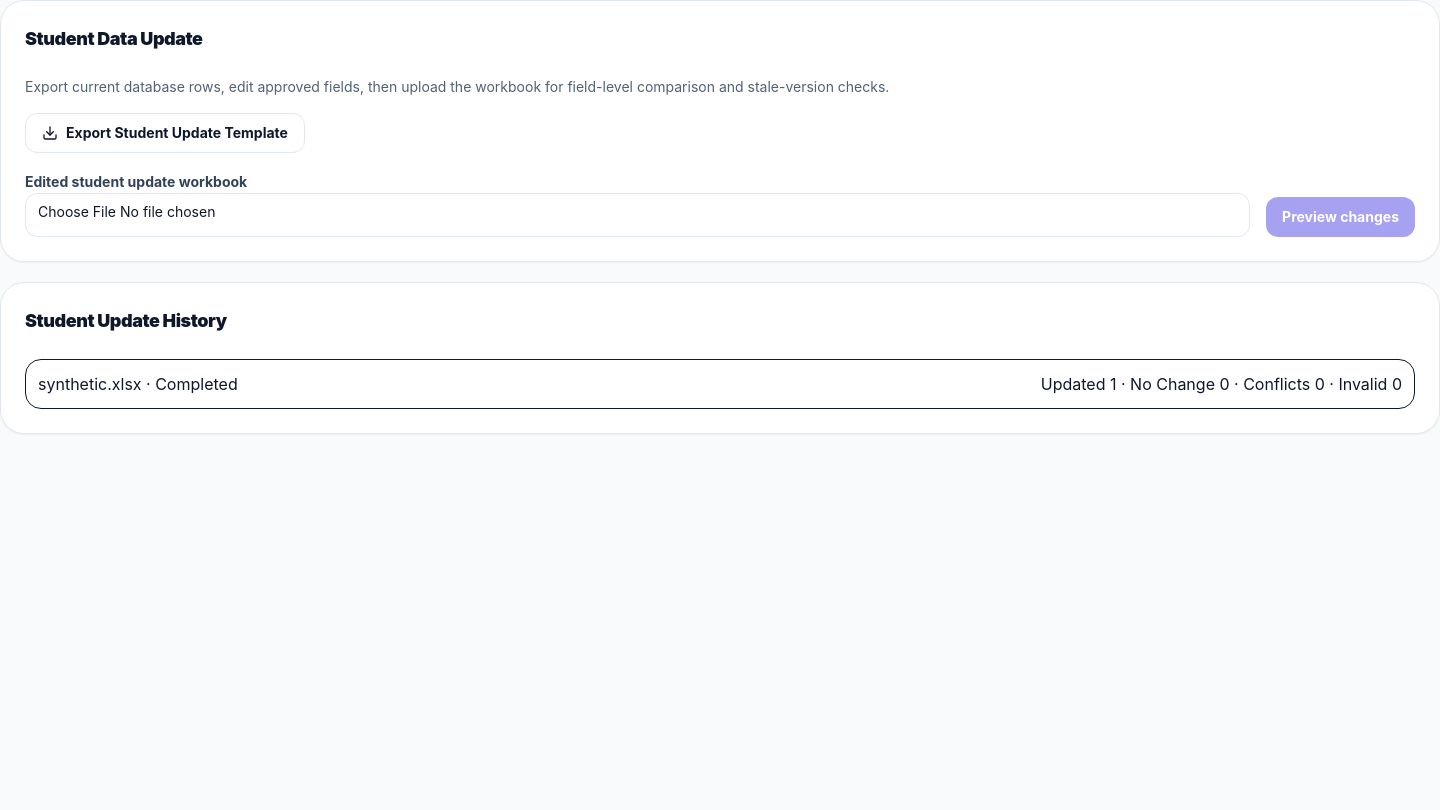
it: Student Update review › previews and applies rollback for recorded Student Update actions
The image size is (1440, 810).
Click the button with aria-label "Open Student Update history item synthetic.xlsx".
click(90, 384)  # box [25,359,1415,409]
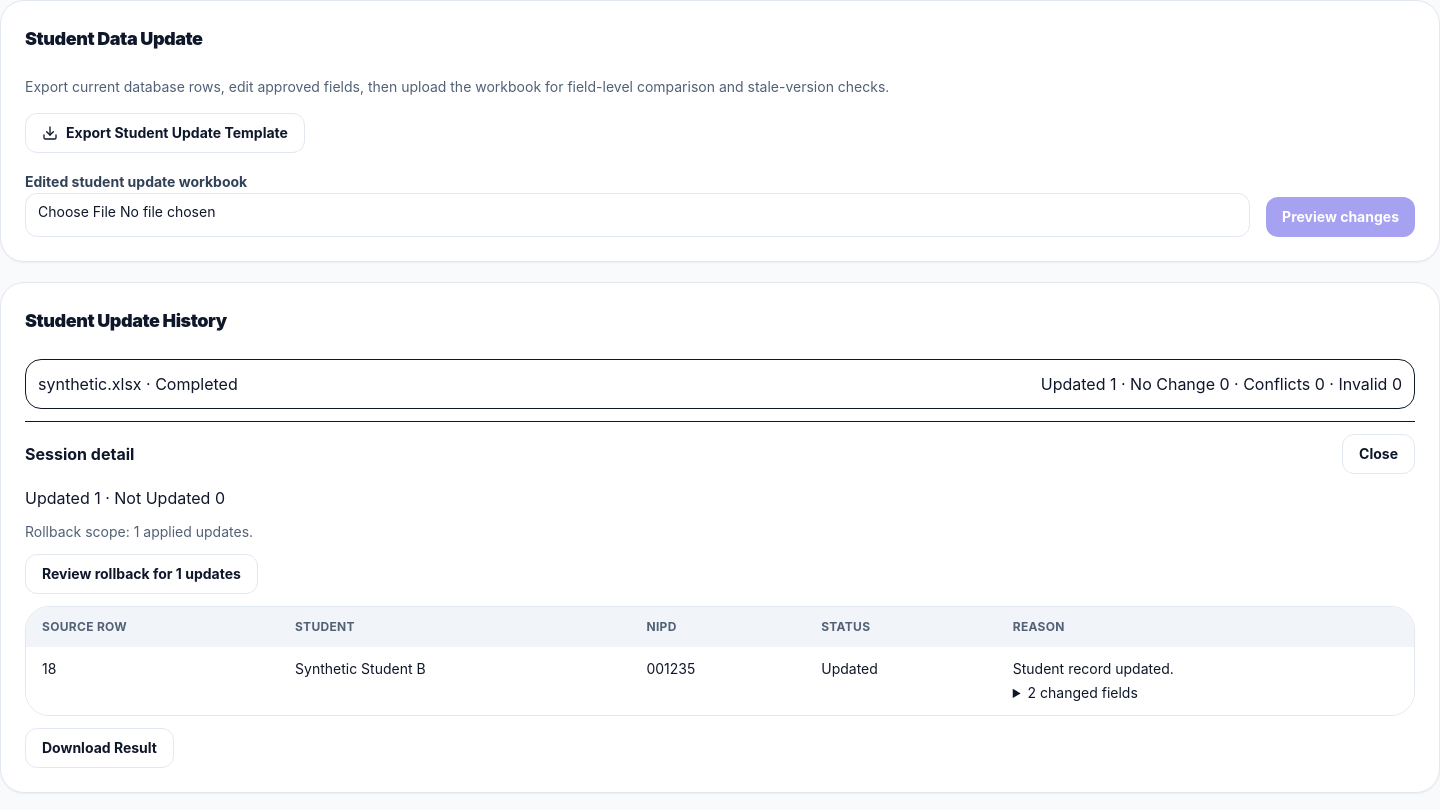
Click the button "Review rollback for 1 updates".
click(141, 574)  # box [25,554,258,594]
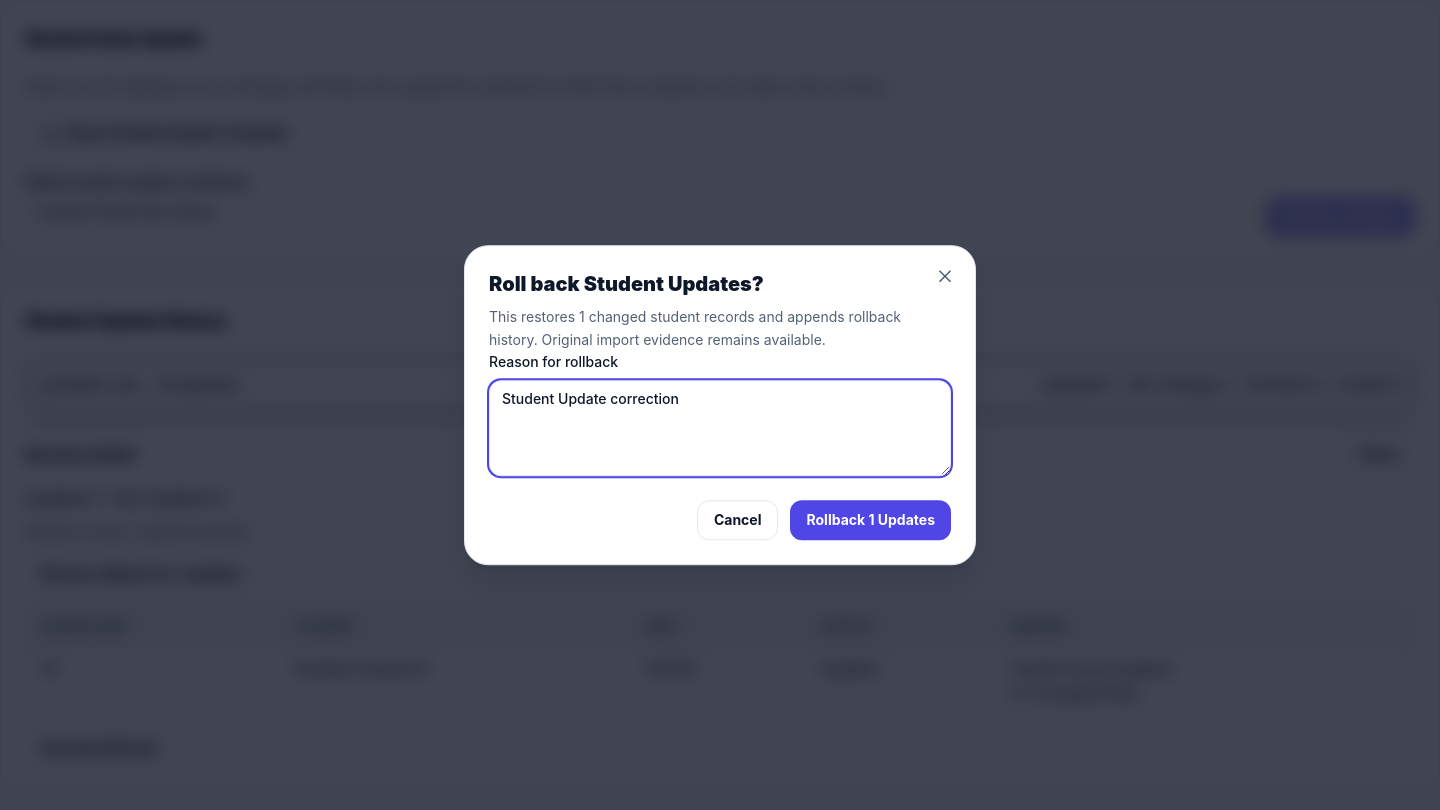
Check: the text "Roll back Student Updates?" is shown, box [489,272,764,296]
Check: the text "restores 1 changed student records" is shown, box [489,306,951,352]
Click the button "Rollback 1 Updates".
click(871, 520)  # box [790,500,951,540]
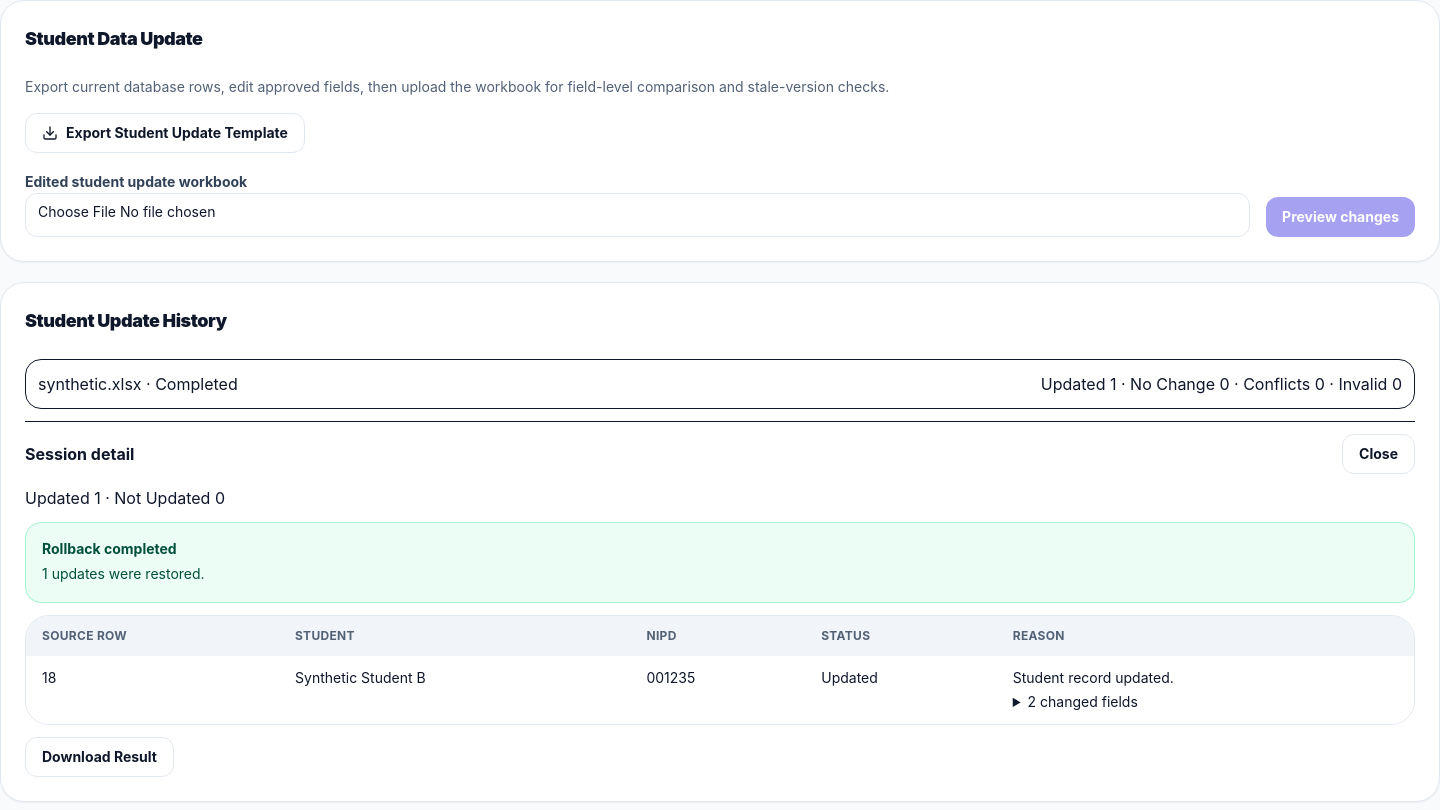
Check: the text "Rollback completed" is shown, box [42,540,177,557]
